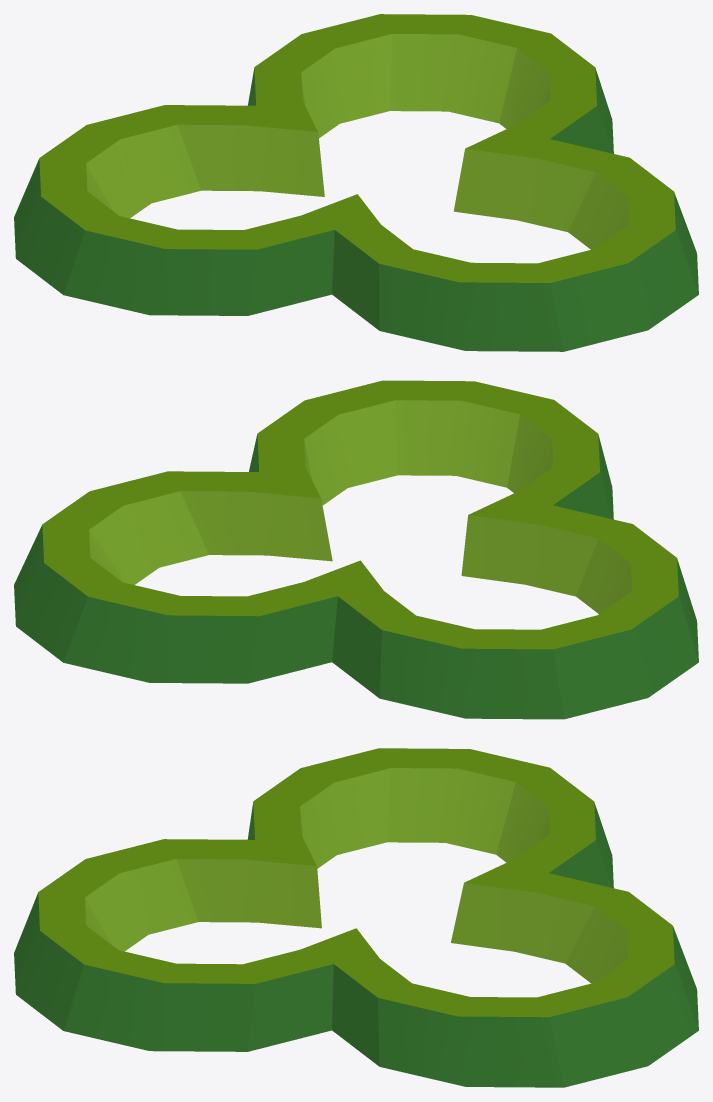
The model's file is Pepper_Slice_Pepper_0_001.glb.
3 renders of one model, top to bottom at view 1: azimuth 30°, elevation 25°; view 2: azimuth 150°, elevation 25°; view 3: azimuth 270°, elevation 25°, orthographic.
Visible parts, largest first — view 1: Pepper_Slice_Pepper_0.001; view 2: Pepper_Slice_Pepper_0.001; view 3: Pepper_Slice_Pepper_0.001.
Part boxes in pixels (<box>): Pepper_Slice_Pepper_0.001: <box>14,14,698,351</box>; Pepper_Slice_Pepper_0.001: <box>14,380,698,719</box>; Pepper_Slice_Pepper_0.001: <box>14,748,698,1087</box>.
Size of the model in its own units: 0.1031 by 0.01 by 0.1031.
1 material, 1 textured.
